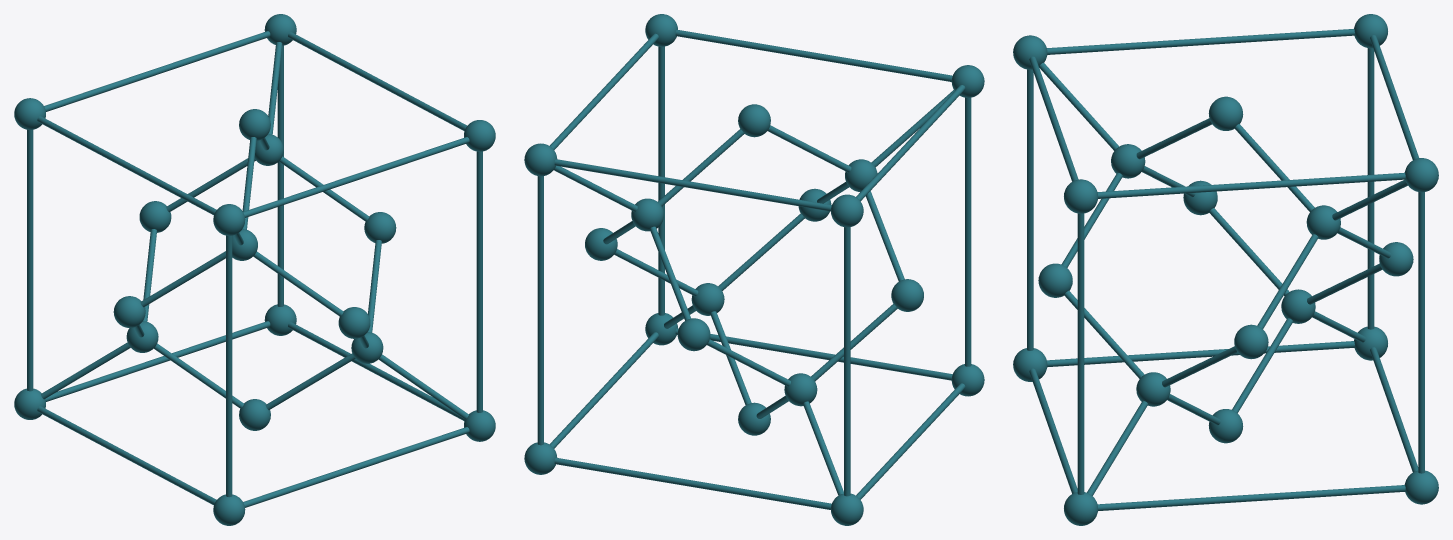
3 views of the same model, side by side, from view 1: azimuth 30°, elevation 25°; view 2: azimuth 150°, elevation 25°; view 3: azimuth 270°, elevation 25° (orthographic). The views are drawn at different scales.
Visible parts, largest first — view 1: ZnS Unit Cell; view 2: ZnS Unit Cell; view 3: ZnS Unit Cell.
Boxes of the visible parts, x1,y1,x2,y2 form: ZnS Unit Cell: [14, 14, 495, 525]; ZnS Unit Cell: [524, 14, 984, 525]; ZnS Unit Cell: [1013, 14, 1438, 525].
Size of the model in its own units: 0.2473 by 0.22 by 0.2473.
